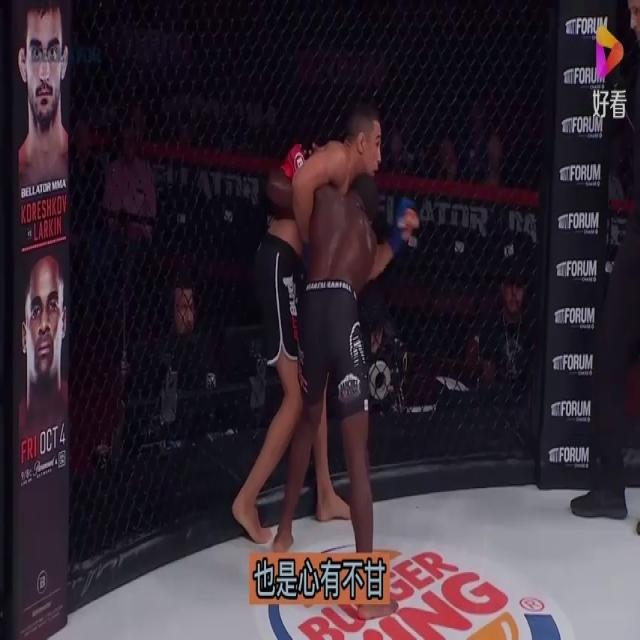fight: (241, 88, 399, 557)
